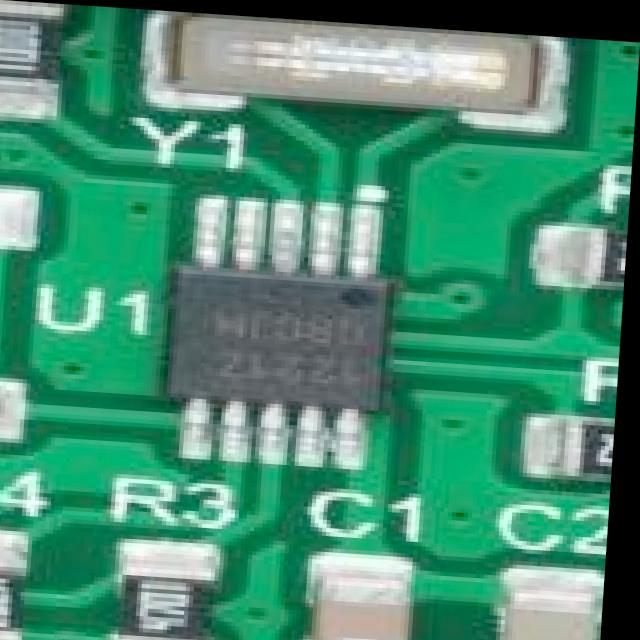IC: (141, 225, 421, 457)
capacitor: (330, 547, 432, 640), (502, 572, 611, 640)
clock: (155, 16, 546, 129)
resistor: (106, 551, 219, 640), (0, 0, 60, 115), (545, 402, 621, 474), (562, 218, 630, 294), (0, 540, 32, 640), (0, 368, 29, 435)
